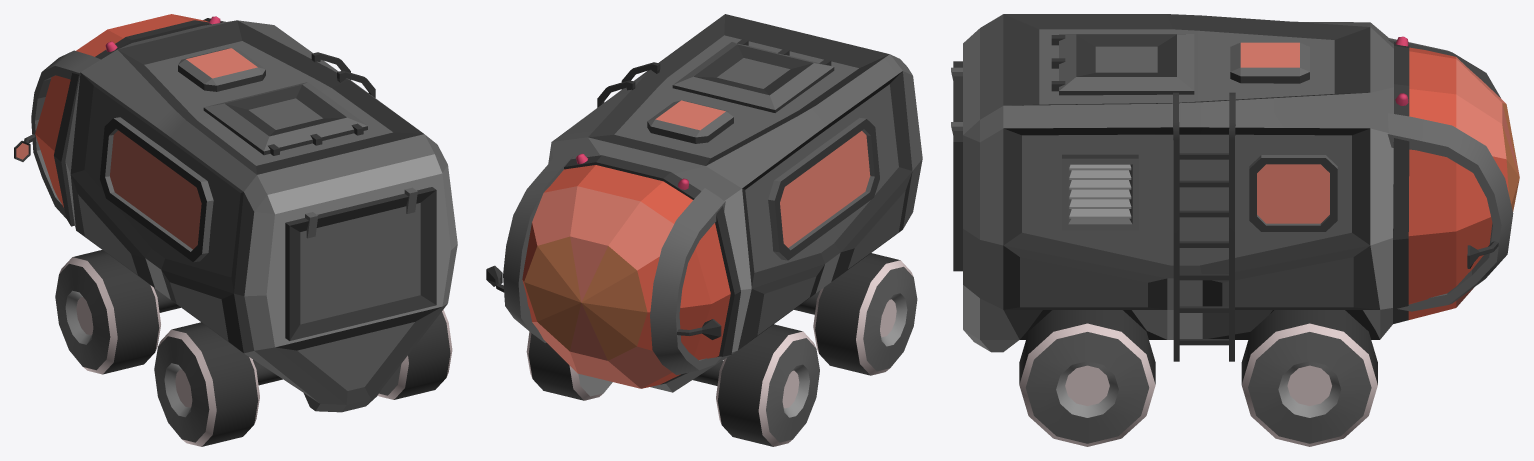
File: Truck.fbx
3 views of the same model, side by side, from view 1: azimuth 30°, elevation 25°; view 2: azimuth 150°, elevation 25°; view 3: azimuth 270°, elevation 25° (orthographic). The views are drawn at different scales.
Parts seen in each view (by area): view 1: Truck; view 2: Truck; view 3: Truck.
Boxes of the visible parts, x1,y1,x2,y2 form: Truck: (14, 14, 457, 446); Truck: (486, 14, 922, 446); Truck: (951, 14, 1519, 446).
Bounding box in the file's own units: 251 × 283 × 440.
